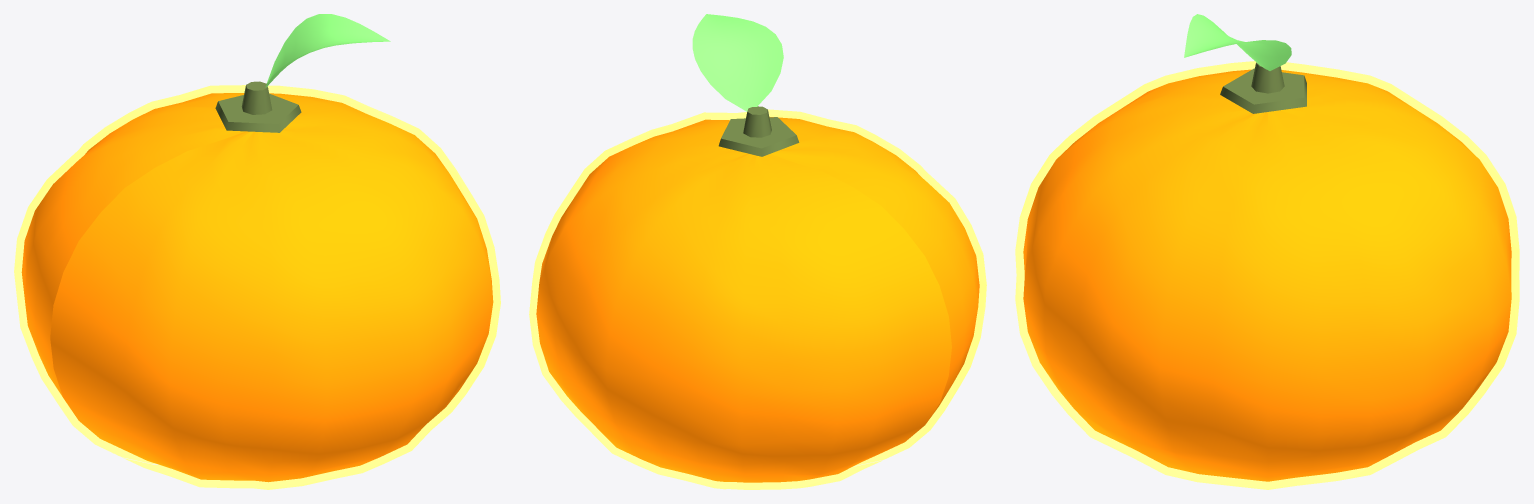
File: pickup_orange.f45086a8.glb
The picture shows the model from 3 angles, left to right: view 1: azimuth 30°, elevation 25°; view 2: azimuth 150°, elevation 25°; view 3: azimuth 270°, elevation 25°; orthographic projection. The views are drawn at different scales.
Visible parts, largest first — view 1: pickup_mandarin; view 2: pickup_mandarin; view 3: pickup_mandarin.
Part boxes in pixels (x1,y1,x2,y2): pickup_mandarin: [14, 14, 500, 489]; pickup_mandarin: [529, 14, 986, 489]; pickup_mandarin: [1015, 14, 1519, 489].
Bounding box in the file's own units: 0.3468 × 0.3296 × 0.3362.
